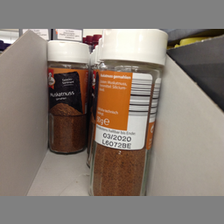spices: (89, 29, 168, 196), (47, 40, 91, 155)
